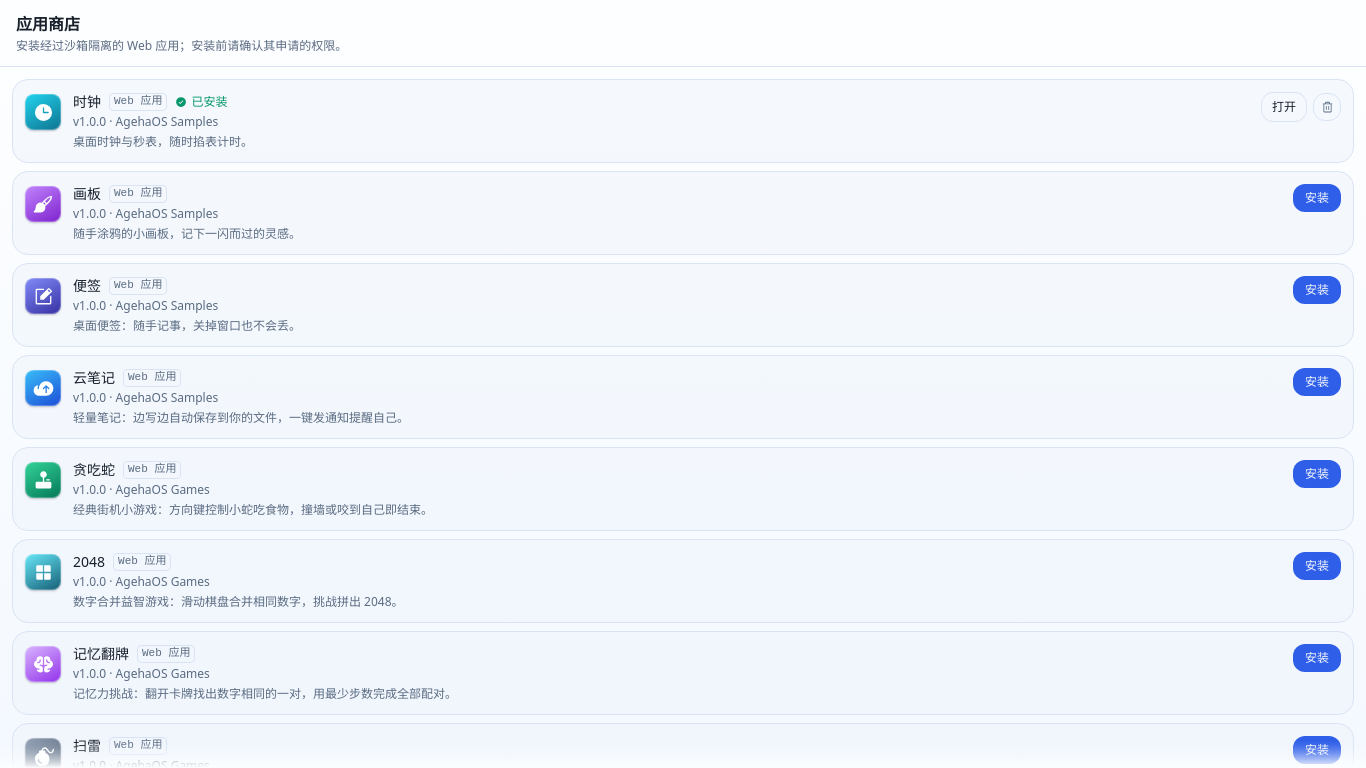
StoreApp 窄容器（M3-4） › 卸载需二次确认：取消保留安装，确认后卸载
The image size is (1366, 768).
What coordinates should you click on to do the following:
click the 1st button "安装"
I would click on:
 (1317, 198)
Its box is [1293,184,1341,212].
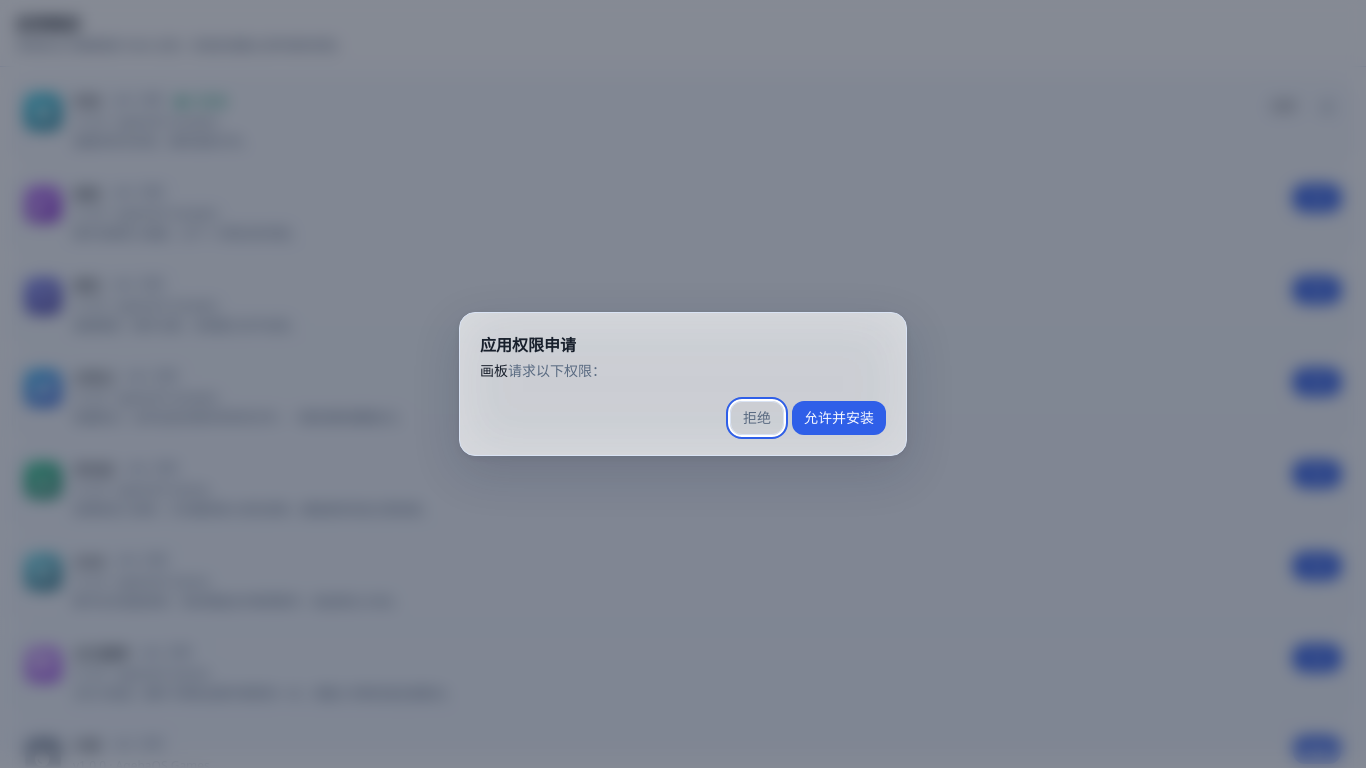
What coordinates should you click on to do the following:
click the button "允许并安装"
I would click on:
 (839, 418)
Its box is [792,401,886,435].
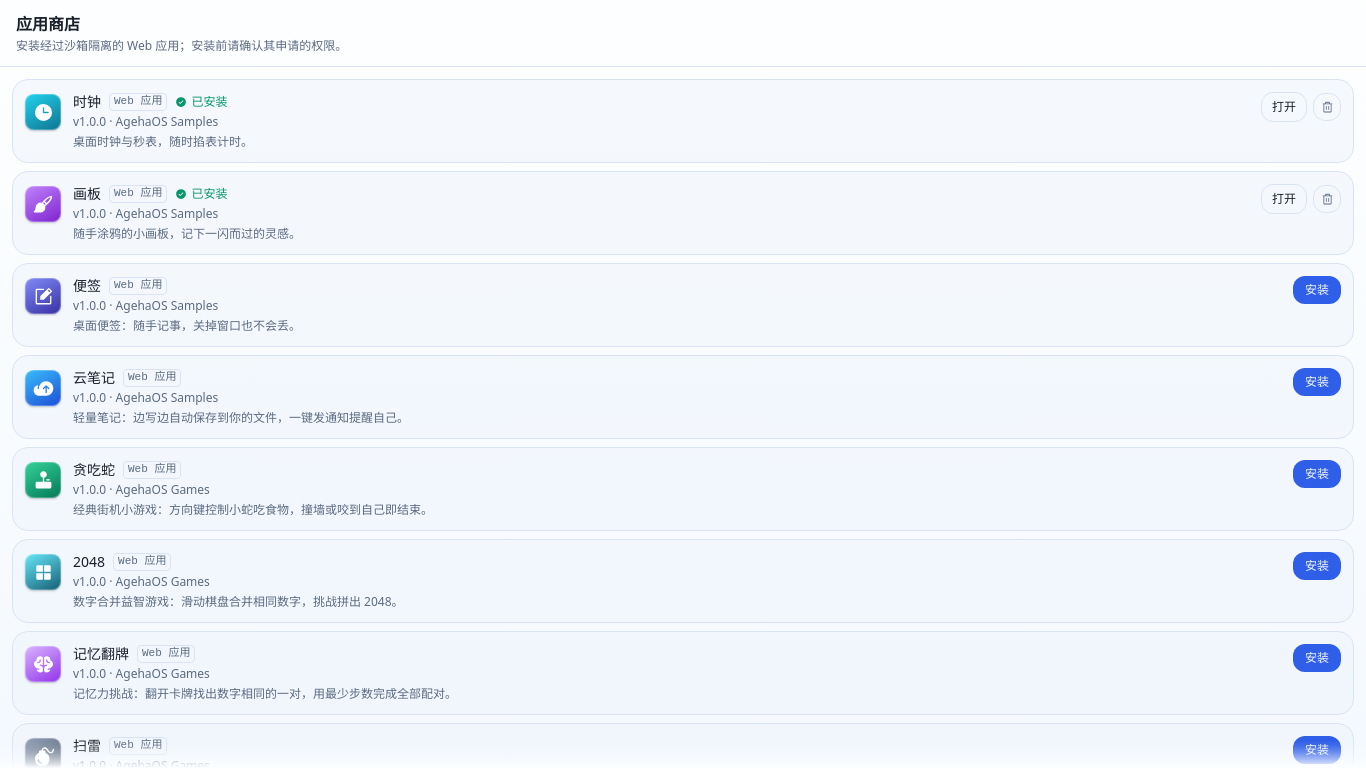
Note: 垃圾桶单击只开确认弹层，不直接卸载（D2 审查）。
What coordinates should you click on to do the following:
click the button named "卸载 时钟"
I would click on:
 (1327, 107)
Its box is [1313,93,1341,121].
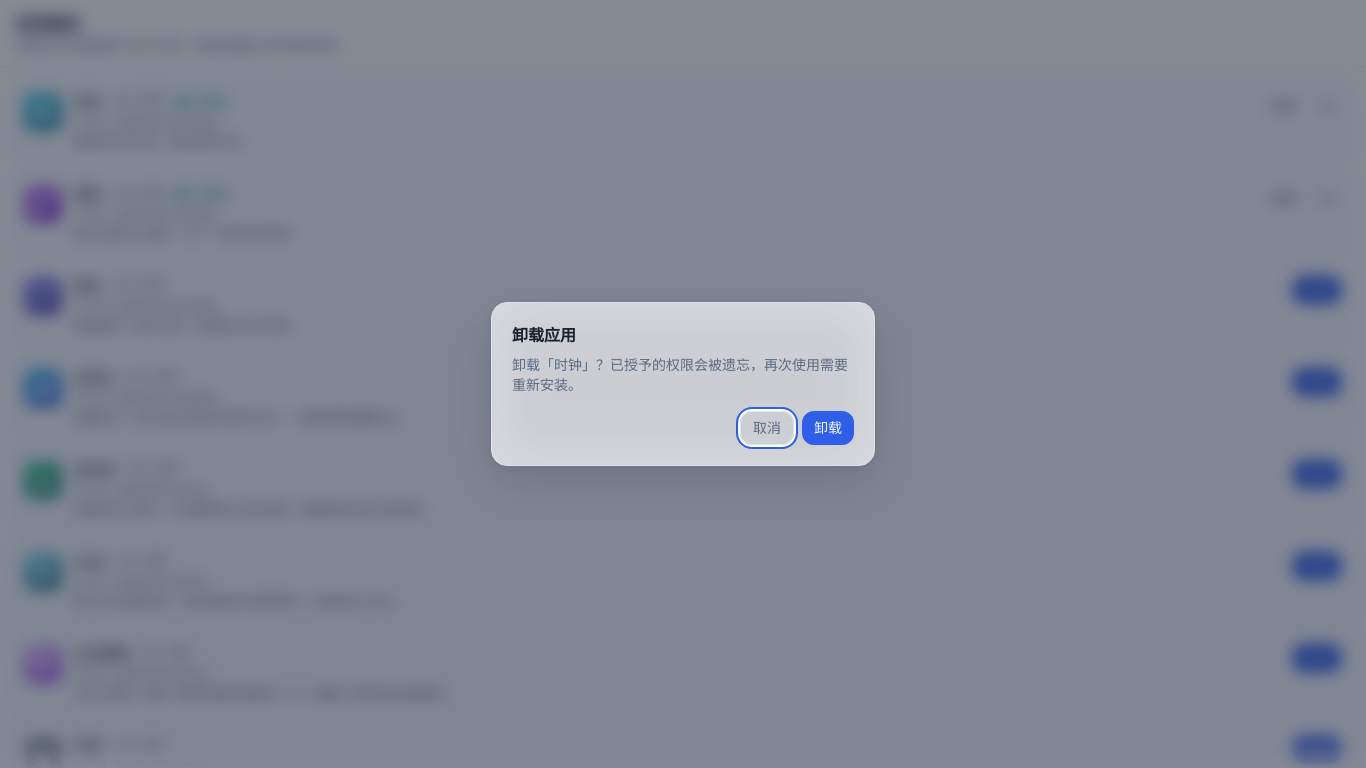
Now the text "卸载「时钟」？已授予的权限会被遗忘，再次使用需要重新安装。" is shown, box [512,355,854,395]
What coordinates should you click on to do the following:
click the button "取消"
I would click on:
 (767, 428)
Its box is [740,411,794,445].
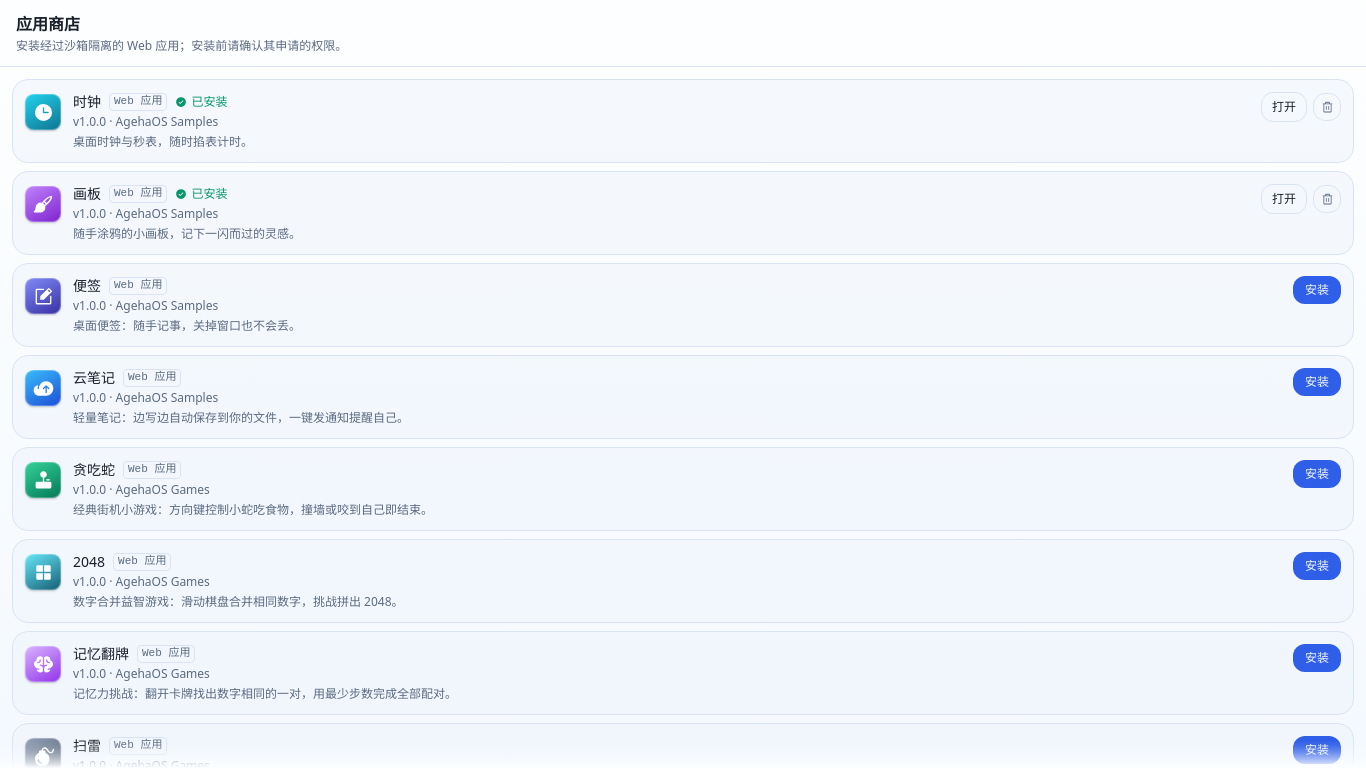
What coordinates should you click on to do the following:
click the button named "卸载 时钟"
I would click on:
 (1327, 107)
Its box is [1313,93,1341,121].
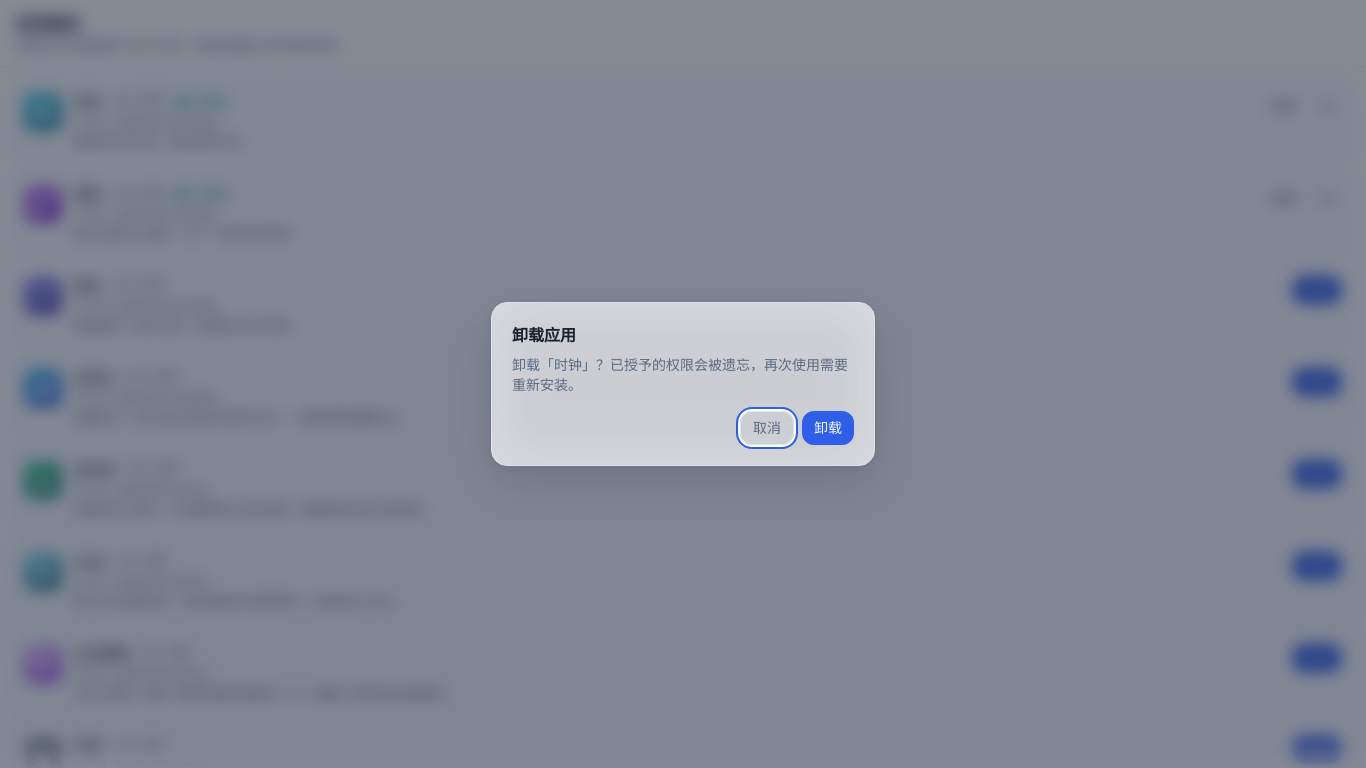
What coordinates should you click on to do the following:
click the button "卸载"
I would click on:
 (828, 428)
Its box is [802,411,854,445].
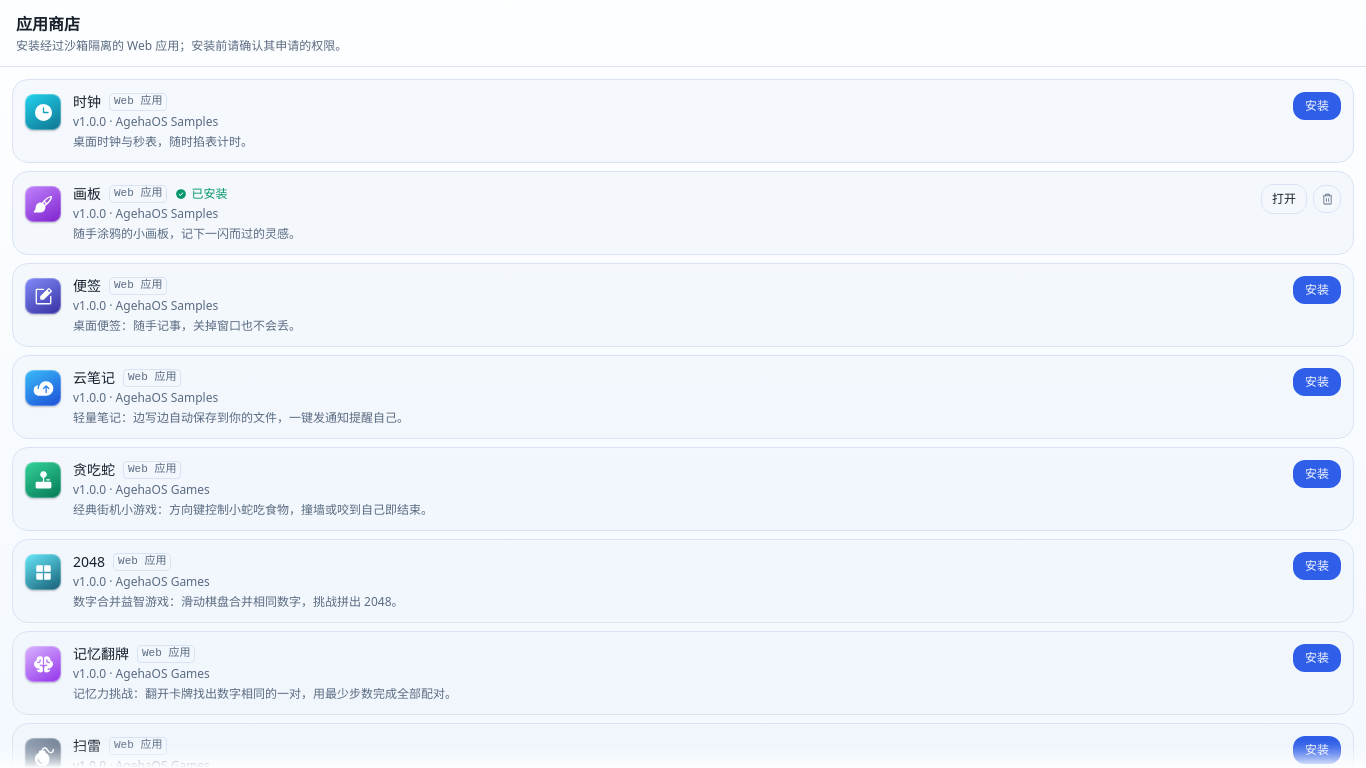
Now the 1st button "安装" is shown, box [1293,92,1341,120]
